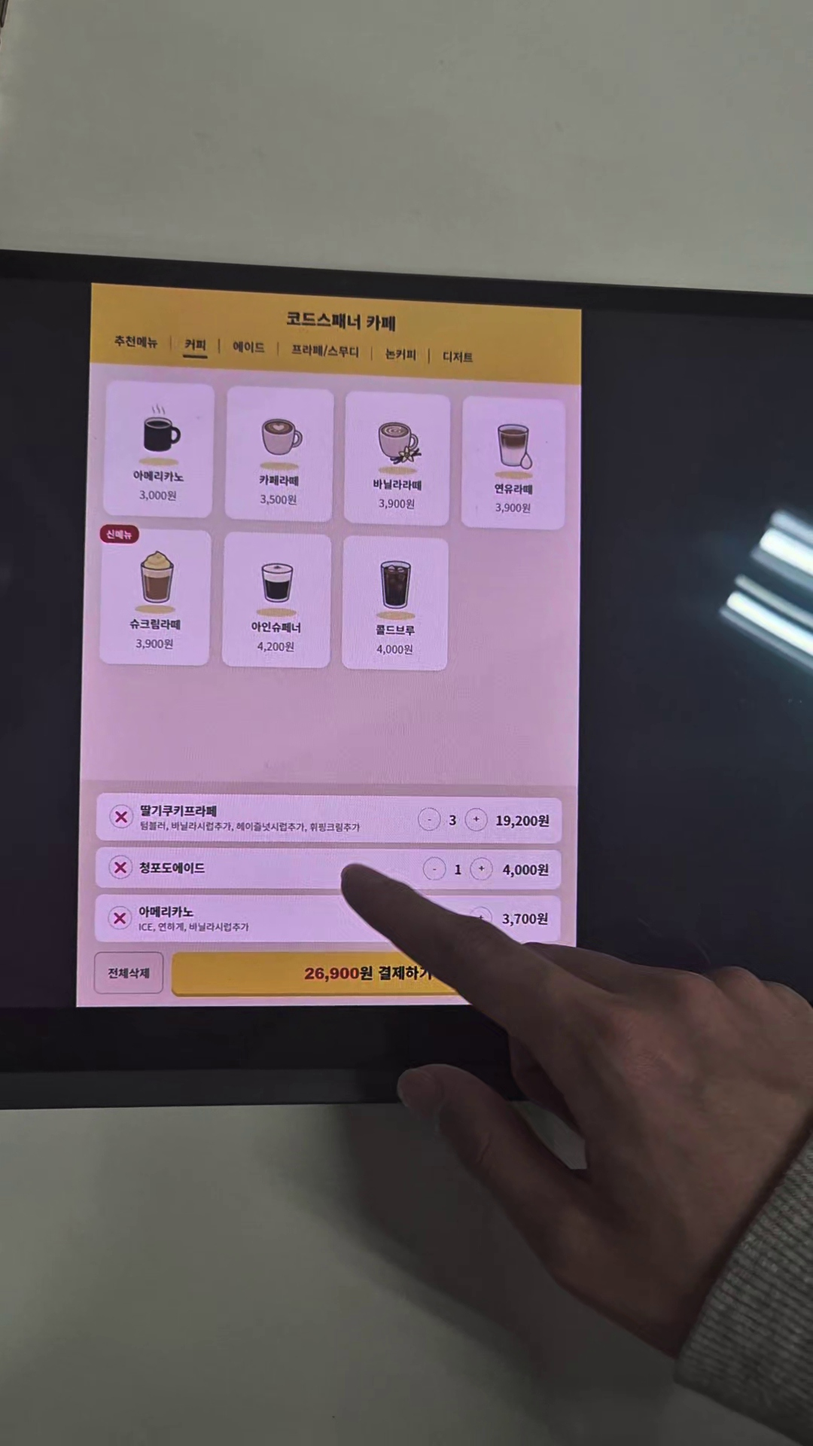action_button: (172, 952, 560, 997), (94, 952, 164, 994)
cart_item: (97, 793, 562, 843), (95, 894, 561, 943), (96, 848, 562, 890)
category_tab: (291, 342, 361, 360), (113, 333, 159, 350), (384, 345, 419, 363), (232, 338, 268, 354), (442, 348, 475, 365), (183, 337, 208, 352)
menu_back: (99, 524, 211, 666), (104, 381, 214, 518), (222, 532, 331, 668), (225, 386, 334, 521), (344, 391, 451, 526), (342, 536, 448, 671), (461, 396, 566, 530)
menu_name: (132, 468, 186, 483), (371, 477, 425, 492), (129, 617, 182, 631), (251, 620, 302, 633), (257, 474, 301, 488), (375, 623, 417, 637), (494, 483, 534, 496)
menu_price: (134, 637, 176, 651), (493, 501, 533, 515), (375, 642, 415, 656), (378, 497, 417, 511), (138, 489, 178, 502), (256, 640, 296, 653), (259, 493, 298, 506)
